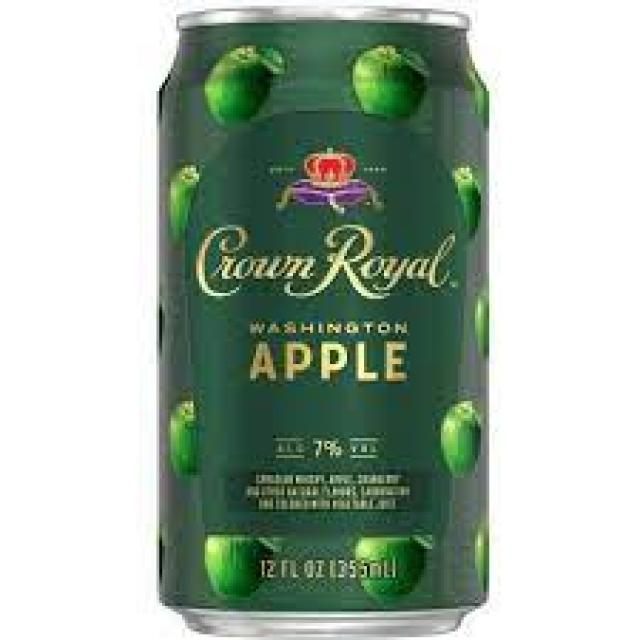Cans: (145, 3, 495, 637)
